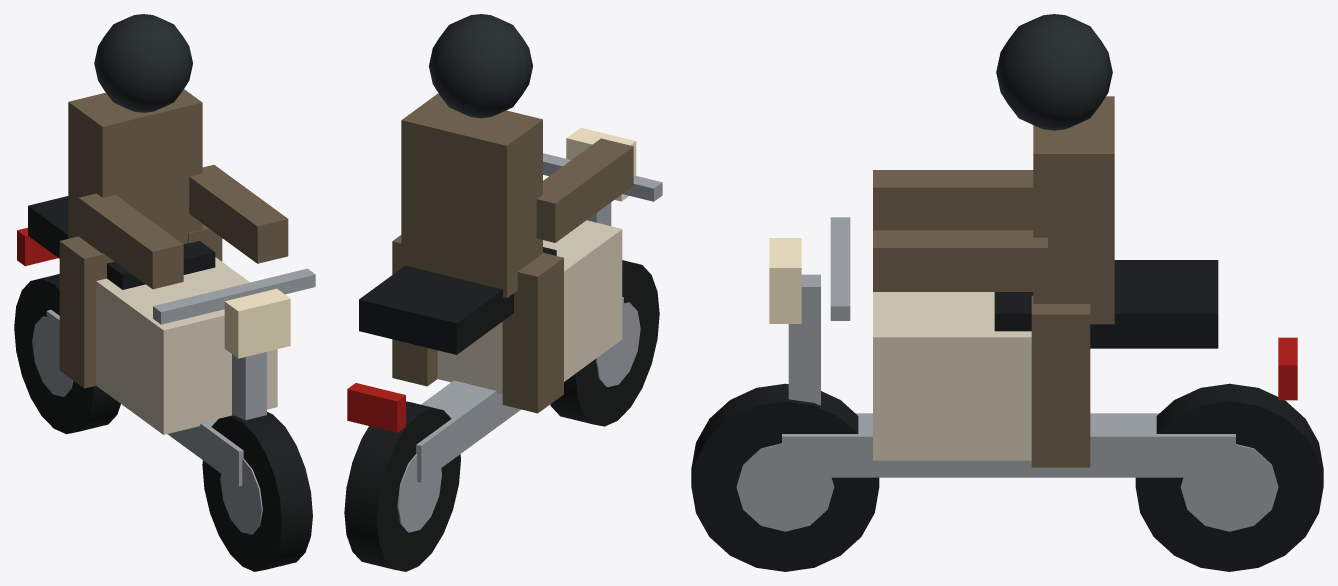
File: scooter.glb
The picture shows the model from 3 angles, left to right: view 1: azimuth 30°, elevation 25°; view 2: azimuth 150°, elevation 25°; view 3: azimuth 270°, elevation 25°; orthographic projection. The views are drawn at different scales.
Bounding box in the file's own units: 0.65 × 1.85 × 1.95.
